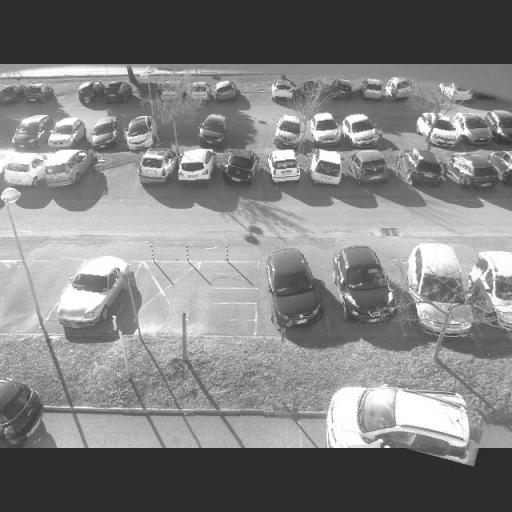busy: (326, 380, 486, 458), (52, 254, 130, 330), (333, 242, 405, 323), (265, 245, 329, 328), (405, 244, 478, 303), (0, 378, 43, 445), (444, 153, 504, 191), (38, 152, 96, 189), (398, 148, 450, 188), (477, 254, 512, 310), (219, 148, 263, 188), (340, 110, 386, 148), (348, 150, 396, 186), (306, 150, 350, 188), (173, 148, 217, 185), (2, 152, 46, 189), (44, 126, 86, 164), (85, 115, 128, 152), (193, 112, 234, 150), (120, 116, 162, 151), (10, 116, 51, 150), (137, 148, 175, 184), (306, 113, 345, 148), (454, 113, 496, 145), (270, 116, 309, 150), (423, 114, 462, 148), (267, 150, 304, 184), (48, 118, 86, 150), (385, 76, 420, 103), (99, 82, 138, 105), (18, 82, 52, 105), (358, 78, 388, 102), (212, 79, 241, 103), (296, 79, 326, 102), (272, 80, 300, 104), (78, 80, 106, 104), (489, 113, 512, 142), (495, 152, 512, 190), (0, 84, 26, 106), (330, 79, 356, 99)
free: (123, 408, 264, 446), (1, 266, 61, 330), (92, 157, 140, 195), (234, 121, 272, 146), (410, 82, 446, 100), (382, 126, 413, 146), (178, 123, 200, 144), (56, 85, 78, 102), (244, 88, 268, 102), (2, 125, 16, 142)
